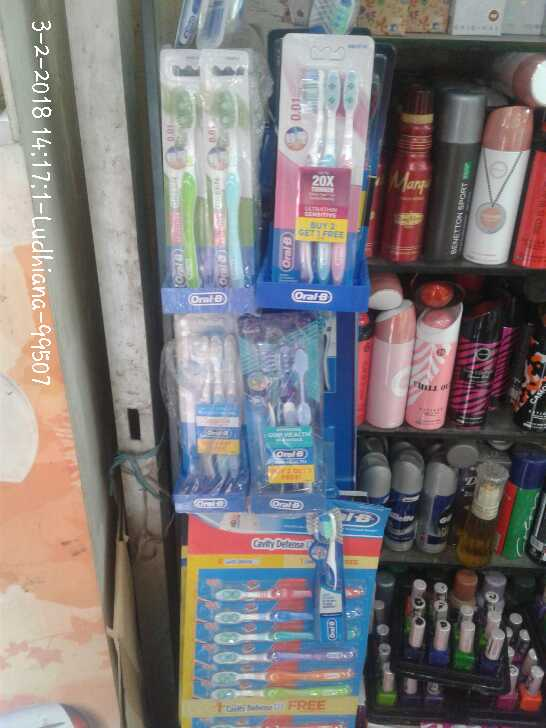oralb: (161, 82, 250, 295), (284, 60, 363, 288), (171, 326, 244, 499), (254, 322, 322, 499), (315, 498, 348, 649), (213, 575, 319, 608), (207, 659, 351, 683), (207, 641, 348, 664), (205, 684, 368, 701), (215, 605, 316, 631), (207, 628, 311, 643)
